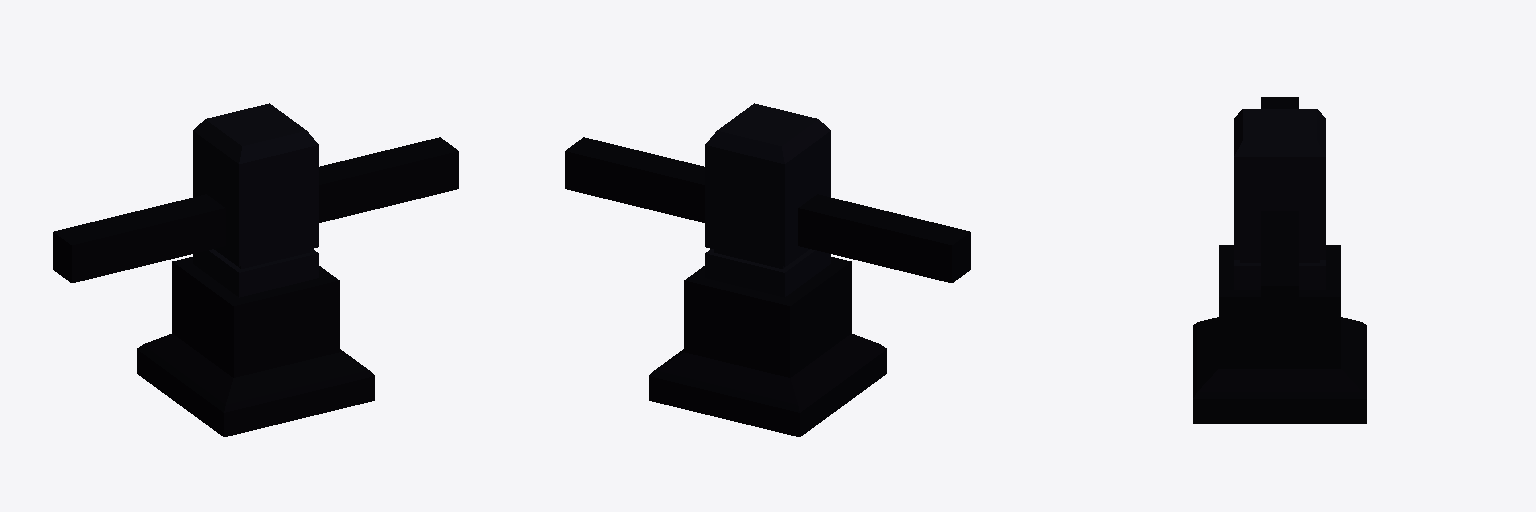
Rendered from Fence_Straight_Modular.obj.
3 renders of one model, left to right at view 1: azimuth 30°, elevation 25°; view 2: azimuth 150°, elevation 25°; view 3: azimuth 270°, elevation 25°, orthographic.
Parts seen in each view (by area): view 1: Fence_Straight_Modular_Cube; view 2: Fence_Straight_Modular_Cube; view 3: Fence_Straight_Modular_Cube.
Part boxes in pixels (x1,y1,x2,y2): Fence_Straight_Modular_Cube: (53, 103, 458, 436); Fence_Straight_Modular_Cube: (565, 103, 970, 436); Fence_Straight_Modular_Cube: (1193, 97, 1366, 423).
Bounding box in the file's own units: 2 × 1.29 × 0.7812.